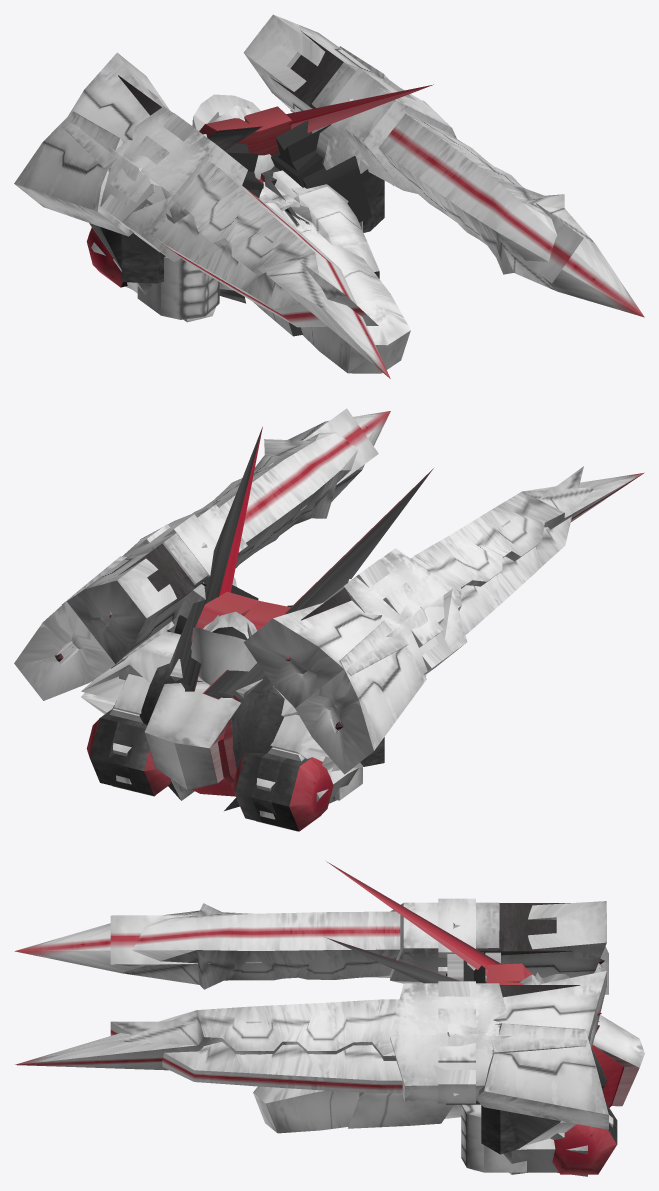
File: player_top_shield.fbx
3 views of the same model, one above another, from view 1: azimuth 30°, elevation 25°; view 2: azimuth 150°, elevation 25°; view 3: azimuth 270°, elevation 25° (orthographic). The views are drawn at different scales.
Visible parts, largest first — view 1: mqo_mesh; view 2: mqo_mesh; view 3: mqo_mesh.
Part boxes in pixels (x1,y1,x2,y2): mqo_mesh: (14,14,644,378); mqo_mesh: (14,408,644,831); mqo_mesh: (14,861,644,1176).
Size of the model in its own units: 10.71 by 7.32 by 17.7.
